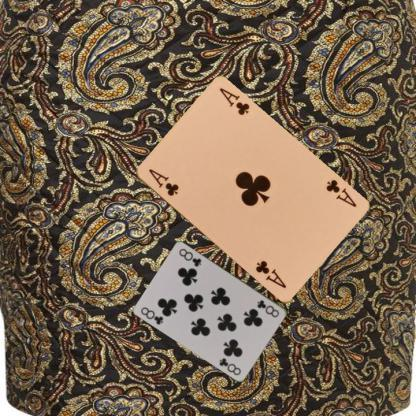8c: (138, 304, 165, 326), (255, 297, 281, 318)
Ac: (323, 176, 358, 209), (146, 166, 180, 198)
